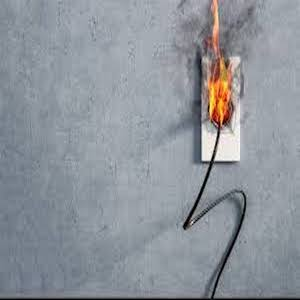heat: (204, 4, 235, 127)
